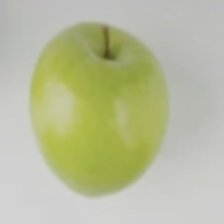apple: (11, 36, 203, 210)
